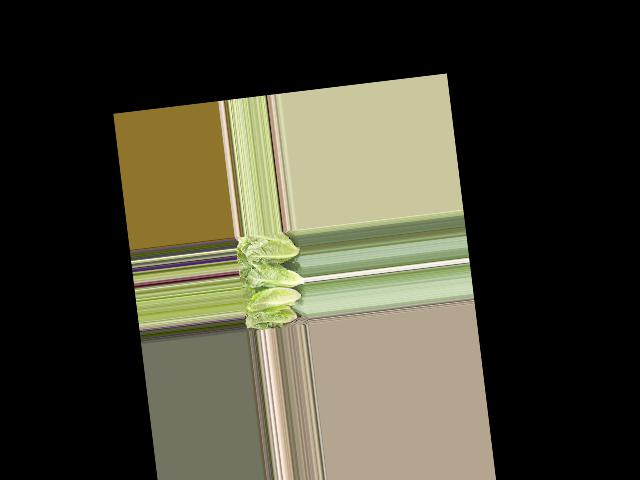lettuce: (244, 306, 296, 327)
